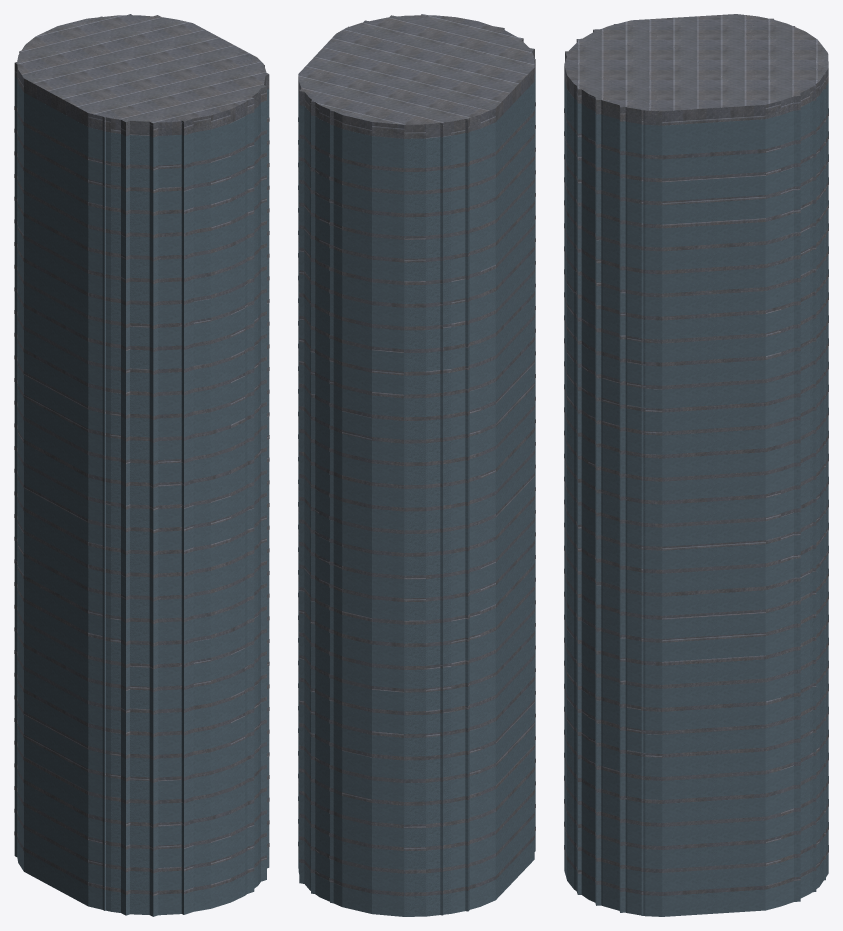
The model's file is tour-super-italie.glb.
3 views of the same model, side by side, from view 1: azimuth 30°, elevation 25°; view 2: azimuth 150°, elevation 25°; view 3: azimuth 270°, elevation 25° (orthographic).
Visible parts, largest first — view 1: glass, roof; view 2: glass, roof; view 3: glass, roof.
Part boxes in pixels (left/top/right/bottom): glass: left=14, top=77, right=269, bottom=916; roof: left=14, top=14, right=269, bottom=895; glass: left=298, top=73, right=535, bottom=916; roof: left=298, top=14, right=535, bottom=896; glass: left=564, top=80, right=828, bottom=916; roof: left=564, top=14, right=828, bottom=895.
Bounding box in the file's own units: 29.07 × 112 × 33.38.
2 materials, 2 textured.
